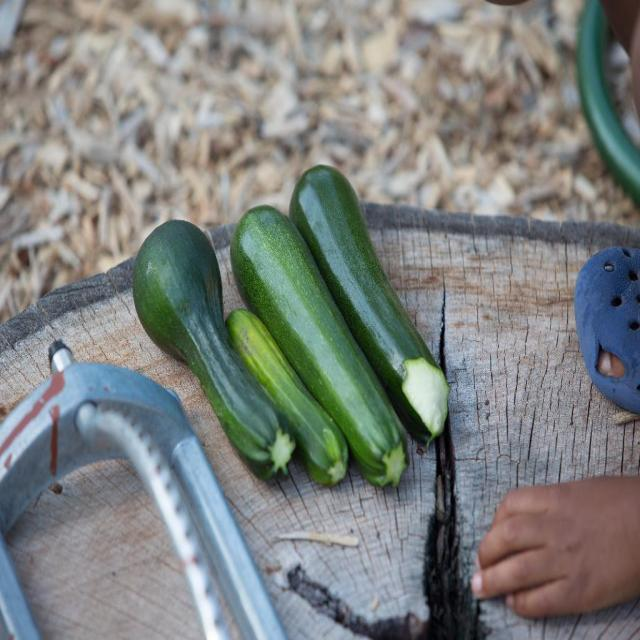Zucchini: (228, 195, 412, 488), (288, 162, 452, 443), (132, 218, 296, 480), (225, 310, 350, 490)
